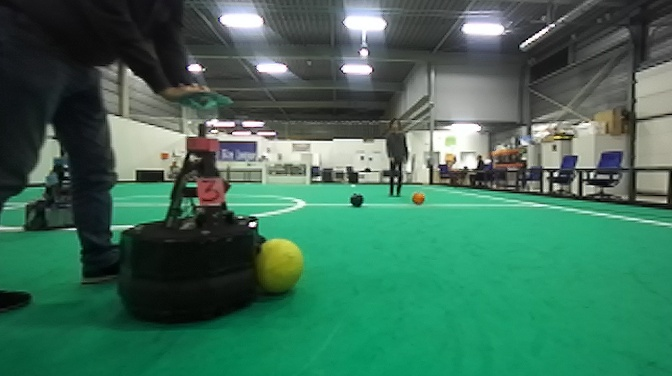ball: (256, 237, 305, 295), (346, 190, 367, 210), (410, 190, 427, 206)
goal: (261, 164, 310, 189)
goalpost: (260, 164, 267, 188), (305, 162, 310, 189)
human: (383, 113, 409, 200)
human_part: (1, 1, 218, 325)
robot: (113, 87, 268, 325), (22, 133, 84, 235)
